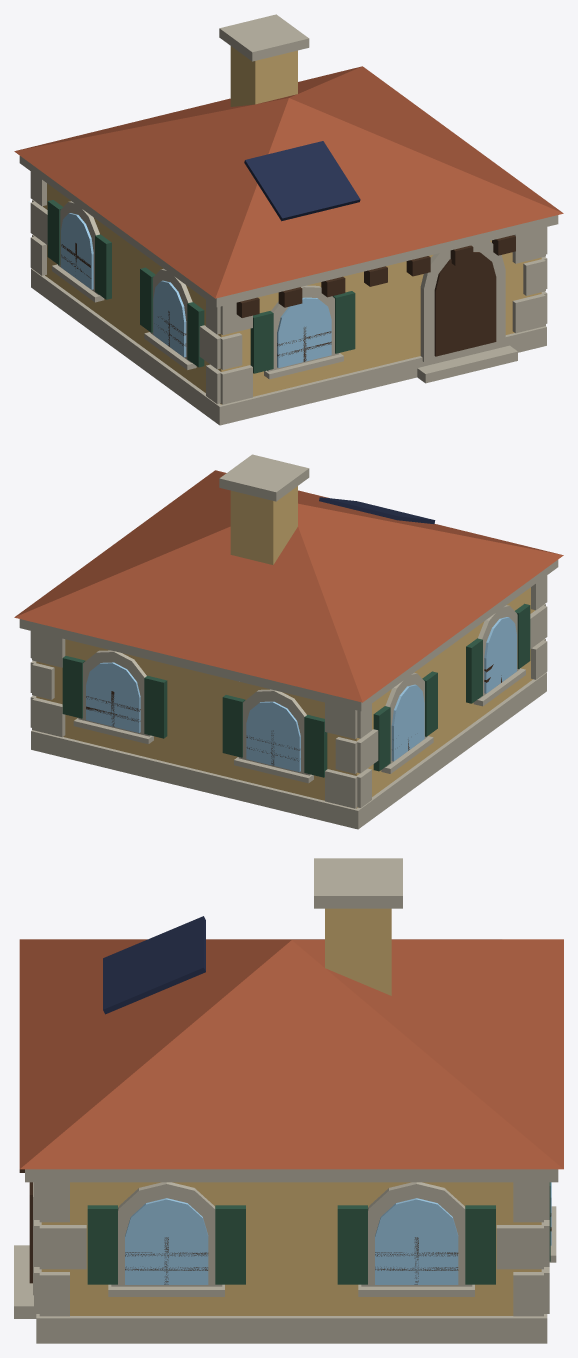
The model's file is house-1x1-1f-tuscan-a-solar.glb.
3 renders of one model, top to bottom at view 1: azimuth 30°, elevation 25°; view 2: azimuth 150°, elevation 25°; view 3: azimuth 270°, elevation 25°, orthographic. The views are drawn at different scales.
Parts seen in each view (by area): view 1: house-1x1-1f-tuscan-a-solar; view 2: house-1x1-1f-tuscan-a-solar; view 3: house-1x1-1f-tuscan-a-solar.
Part boxes in pixels (x1=…): house-1x1-1f-tuscan-a-solar: x1=14, y1=14, x2=563, y2=425; house-1x1-1f-tuscan-a-solar: x1=14, y1=454, x2=563, y2=829; house-1x1-1f-tuscan-a-solar: x1=14, y1=858, x2=563, y2=1343.
Bounding box in the file's own units: 0.98 × 0.712 × 0.99.
1 material, 1 textured.
